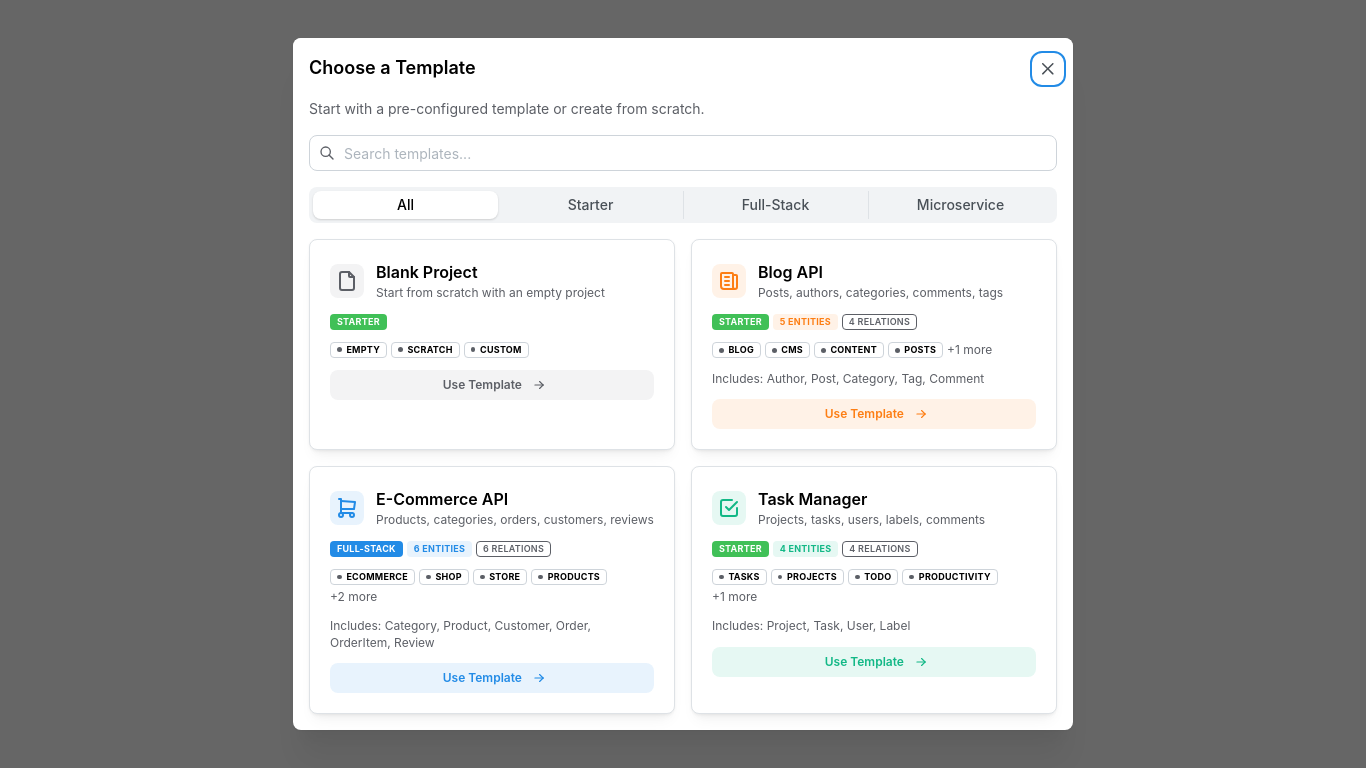
Test: TemplateSelector › Search Functionality › should show no results message when search returns empty
The image size is (1366, 768).
Type "nonexistenttemplate12345" into the field labelled "Search templates" at {"x": 683, "y": 154}, box [309, 136, 1057, 172]
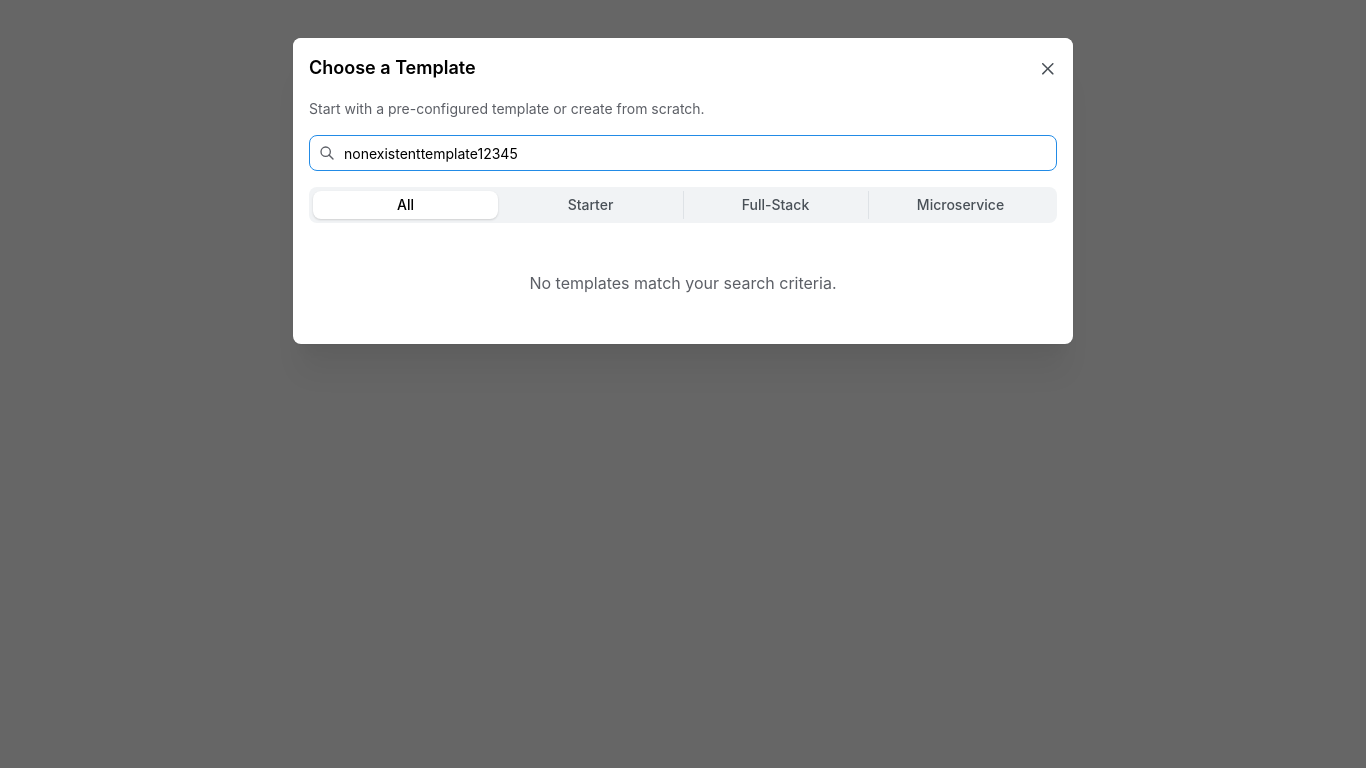
expect the text "No templates match your search criteria." is shown: met, box [530, 273, 836, 293]
